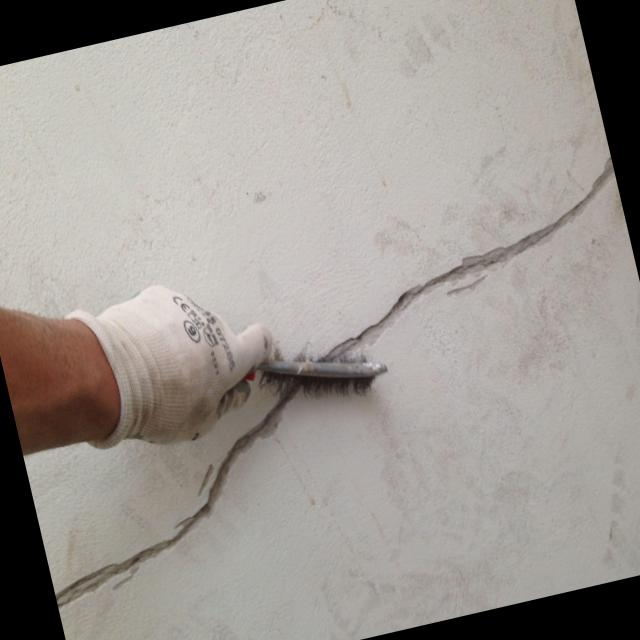crack: (336, 160, 614, 354), (56, 385, 294, 608)
